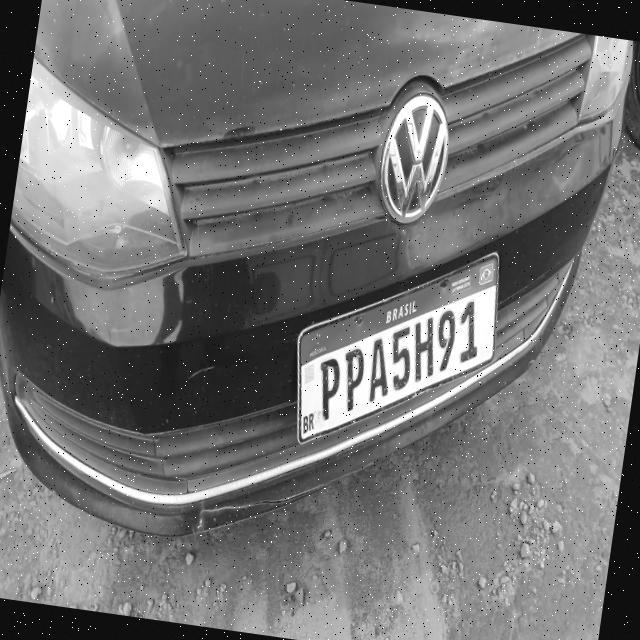numeros: (406, 313, 442, 387), (454, 296, 486, 366), (384, 323, 416, 393), (364, 336, 396, 406), (312, 353, 344, 422), (337, 346, 367, 414), (431, 306, 459, 374)
